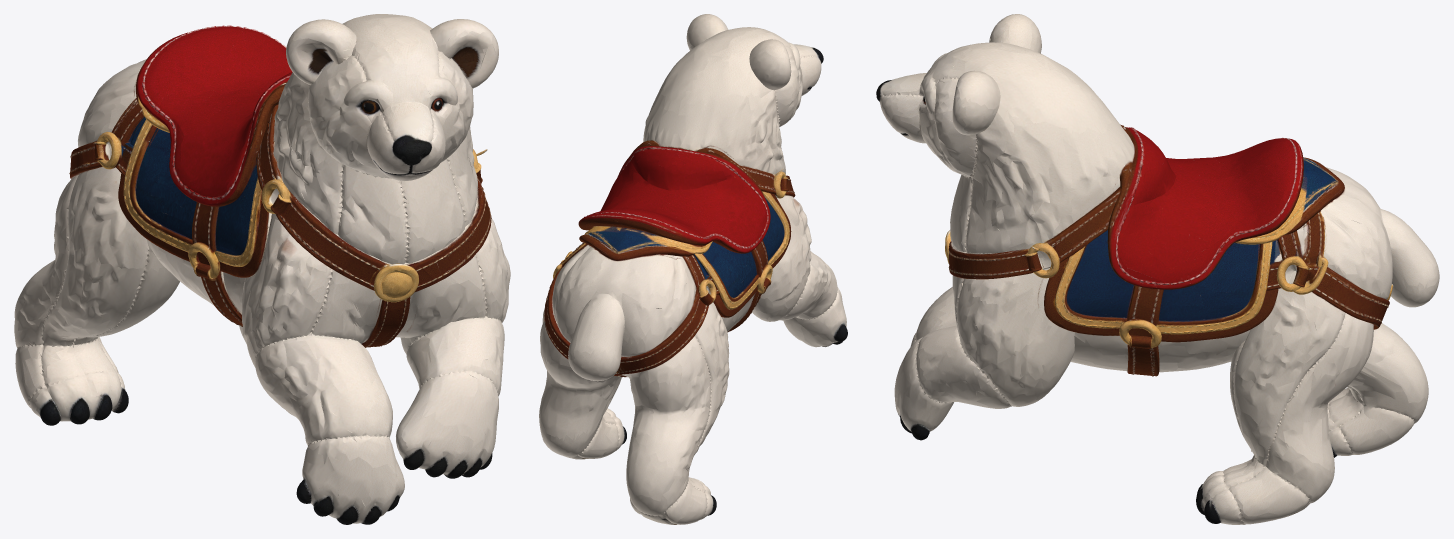
The model's file is polar-bear.glb.
3 renders of one model, left to right at view 1: azimuth 30°, elevation 25°; view 2: azimuth 150°, elevation 25°; view 3: azimuth 270°, elevation 25°, orthographic. The views are drawn at different scales.
Bounding box in the file's own units: 0.9508 × 1.69 × 1.9.
Materials: 1 (1 with a texture image).
